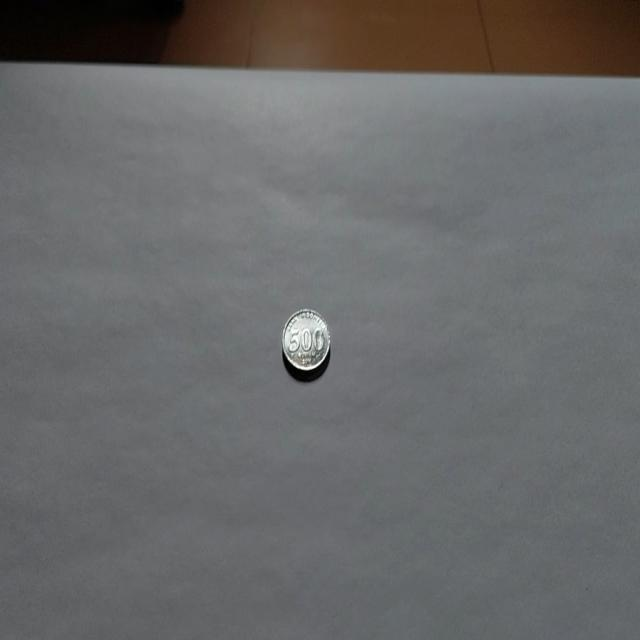lima ratus rupiah: (281, 306, 331, 378)
